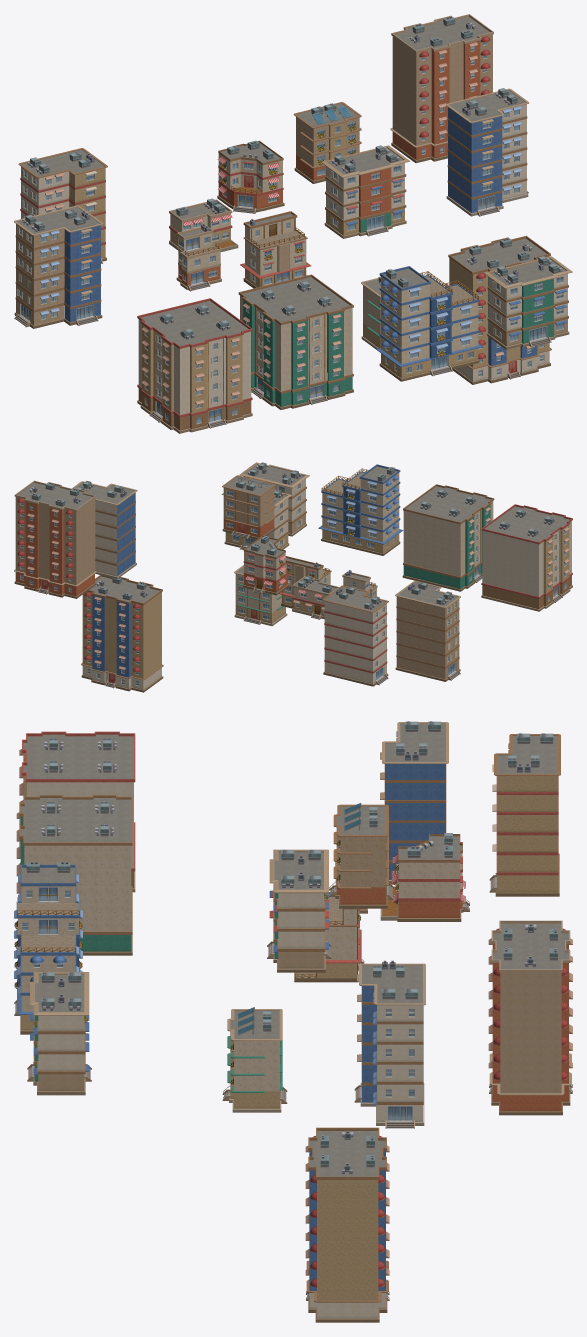
File: Buildings_transformed.glb
3 renders of one model, top to bottom at view 1: azimuth 30°, elevation 25°; view 2: azimuth 150°, elevation 25°; view 3: azimuth 270°, elevation 25°, orthographic. The views are drawn at different scales.
Visible parts, largest first — view 1: Building_1_walls_1, Building_6_Walls_4, Building_3_Fencing, Building_2_Roof, Building_5_Roof_1, Building_8_Decor_1_1, Building_10_1_Roof_1, Building_8_Roof, Building_10_Walls_1, Building_7_Roof, Airing_2__6_; view 2: Building_1_walls_1, Building_6_Walls_4, Building_3_Fencing, Building_2_Roof, Building_5_Roof_1, Building_8_Decor_1_1, Building_8_Roof, Building_10_1_Roof_1, Building_7_Roof, Airing_2__6_; view 3: Building_1_walls_1, Building_6_Walls_4, Building_3_Fencing, Building_2_Roof, Building_8_Decor_1_1, Building_10_Walls_1, Building_5_Roof_1, Building_10_1_Roof_1.
Boxes of the visible parts, left/top/right/bottom form: Building_1_walls_1: left=14, top=14, right=572, bottom=433; Building_6_Walls_4: left=21, top=40, right=567, bottom=414; Building_3_Fencing: left=14, top=102, right=568, bottom=413; Building_2_Roof: left=20, top=36, right=546, bottom=417; Building_5_Roof_1: left=16, top=106, right=380, bottom=325; Building_8_Decor_1_1: left=240, top=285, right=380, bottom=391; Building_10_1_Roof_1: left=40, top=106, right=522, bottom=353; Building_8_Roof: left=138, top=307, right=325, bottom=430; Building_10_Walls_1: left=69, top=168, right=105, bottom=258; Building_7_Roof: left=429, top=295, right=451, bottom=358; Airing_2__6_: left=467, top=238, right=532, bottom=268; Building_1_walls_1: left=14, top=462, right=572, bottom=688; Building_6_Walls_4: left=25, top=464, right=571, bottom=689; Building_3_Fencing: left=14, top=475, right=569, bottom=692; Building_2_Roof: left=17, top=498, right=572, bottom=673; Building_5_Roof_1: left=223, top=477, right=459, bottom=679; Building_8_Decor_1_1: left=235, top=501, right=493, bottom=612; Building_8_Roof: left=247, top=510, right=571, bottom=620; Building_10_1_Roof_1: left=327, top=475, right=398, bottom=533; Building_7_Roof: left=343, top=487, right=360, bottom=537; Airing_2__6_: left=96, top=577, right=148, bottom=600; Building_1_walls_1: left=14, top=721, right=572, bottom=1300; Building_6_Walls_4: left=16, top=764, right=568, bottom=1318; Building_3_Fencing: left=14, top=734, right=570, bottom=1322; Building_2_Roof: left=16, top=731, right=572, bottom=1287; Building_8_Decor_1_1: left=24, top=845, right=279, bottom=1091; Building_10_Walls_1: left=497, top=776, right=558, bottom=892; Building_5_Roof_1: left=230, top=803, right=386, bottom=1081; Building_10_1_Roof_1: left=14, top=731, right=397, bottom=1105.
Size of the model in its own units: 98.73 by 54.79 by 73.1.
39 materials, 39 textured.
